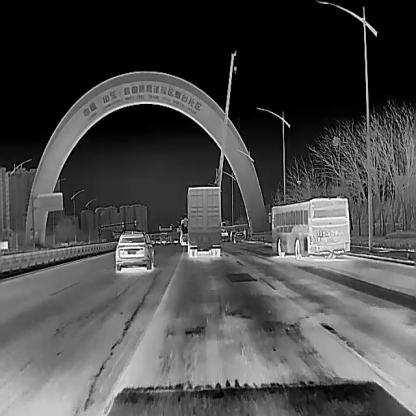bus: (268, 197, 350, 259)
car: (114, 230, 153, 269), (232, 231, 244, 243)
truck: (186, 186, 220, 256), (179, 217, 187, 251)
